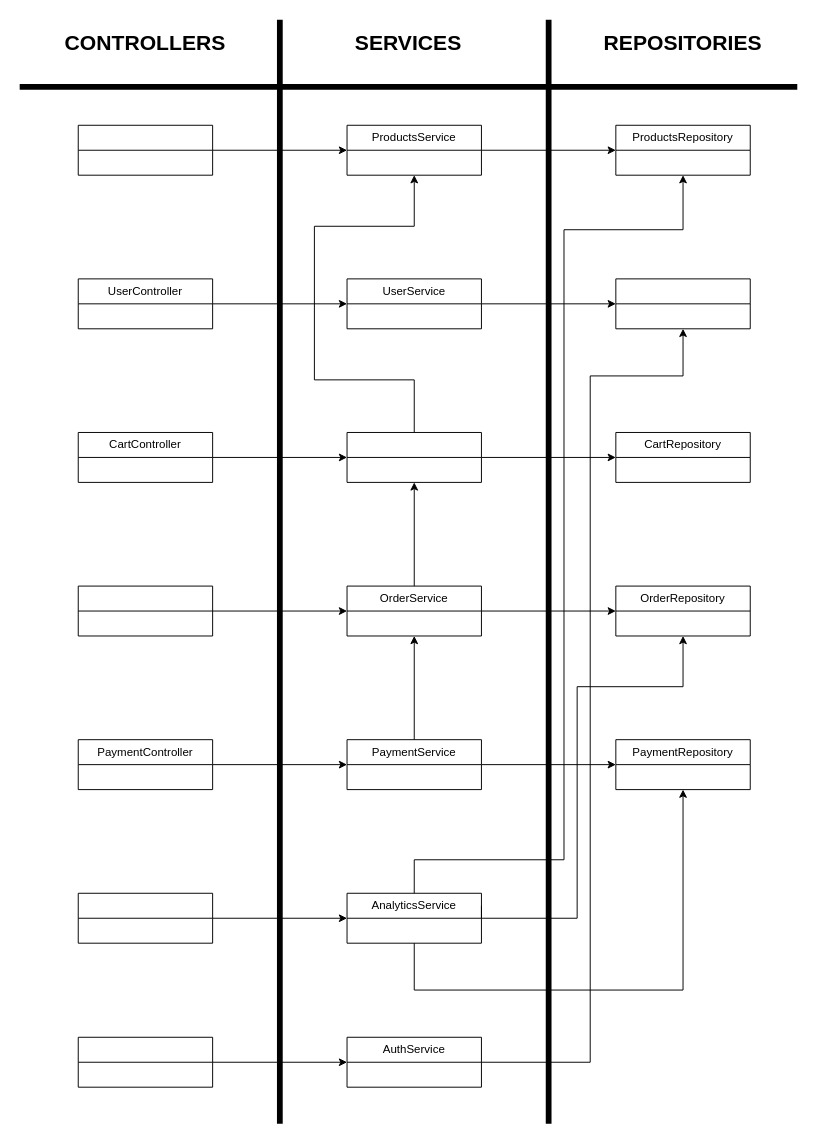
Some shapes in this 817 by 1143 pixel diagram are drawn without their labels. Each missing label, with the centre of its shape:
AnalyticsController: the point at 145,917
AurhController: the point at 145,1061
CartService: the point at 413,457
OrderController: the point at 145,610
ProductsController: the point at 145,149
UserRepository: the point at 682,303
